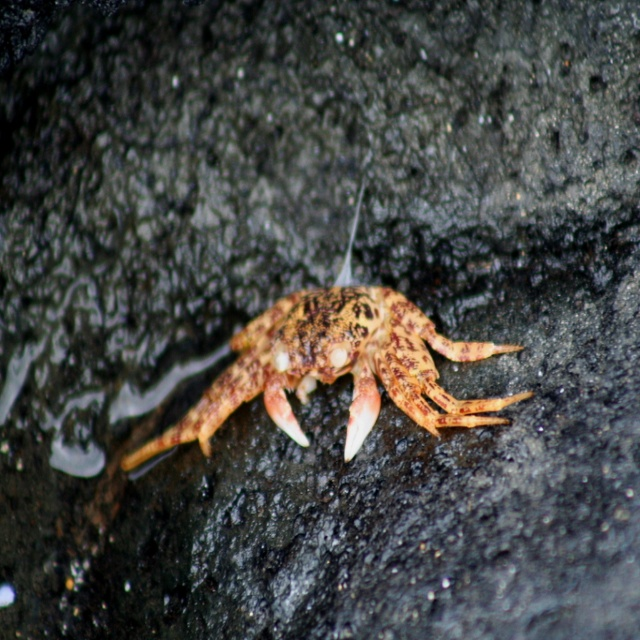Crab: (120, 284, 535, 474)
